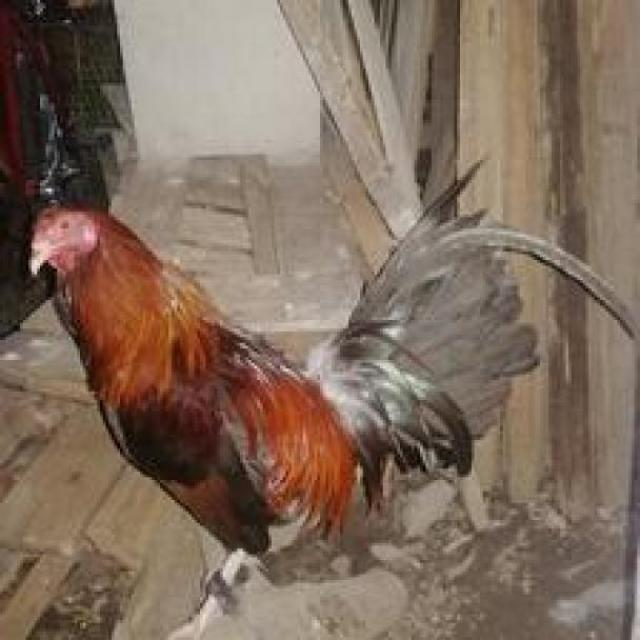Chicken: (17, 154, 600, 640)
